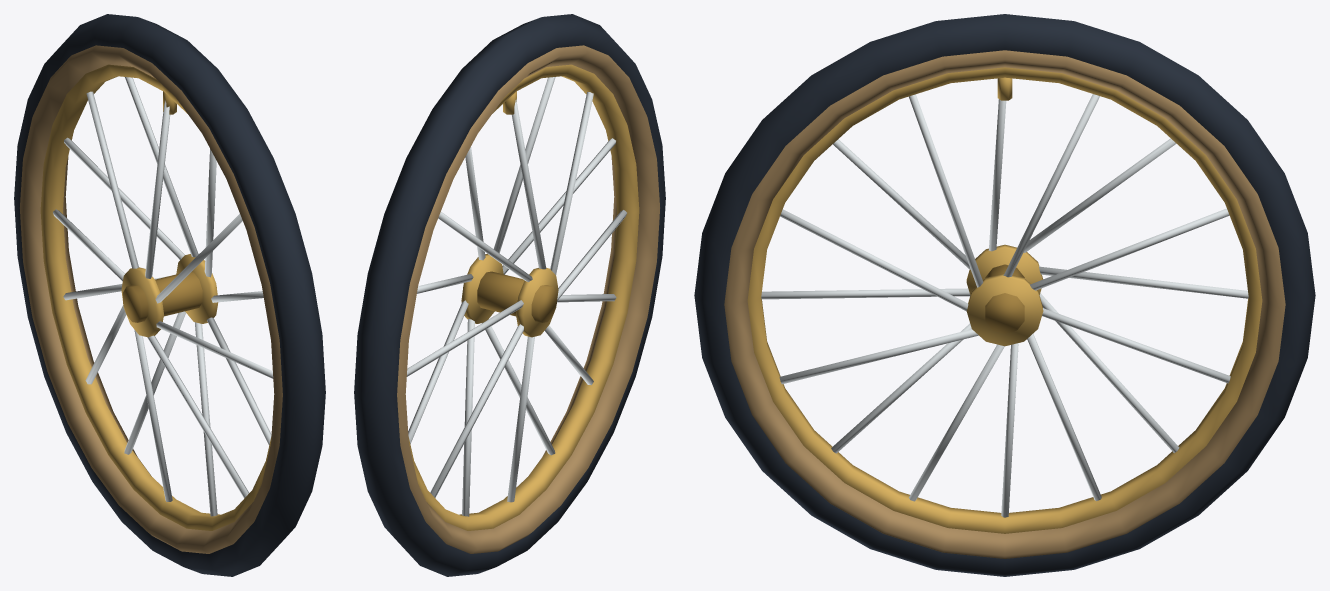
File: knowitowl_wheel.glb
3 renders of one model, left to right at view 1: azimuth 30°, elevation 25°; view 2: azimuth 150°, elevation 25°; view 3: azimuth 270°, elevation 25°, orthographic. The views are drawn at different scales.
Parts seen in each view (by area): view 1: KnowItOwlWheel; view 2: KnowItOwlWheel; view 3: KnowItOwlWheel.
Part boxes in pixels (bbox=[...]): KnowItOwlWheel: bbox=[14, 14, 325, 576]; KnowItOwlWheel: bbox=[354, 14, 665, 576]; KnowItOwlWheel: bbox=[694, 14, 1315, 576].
Size of the model in its own units: 0.32 by 2.11 by 2.11.
